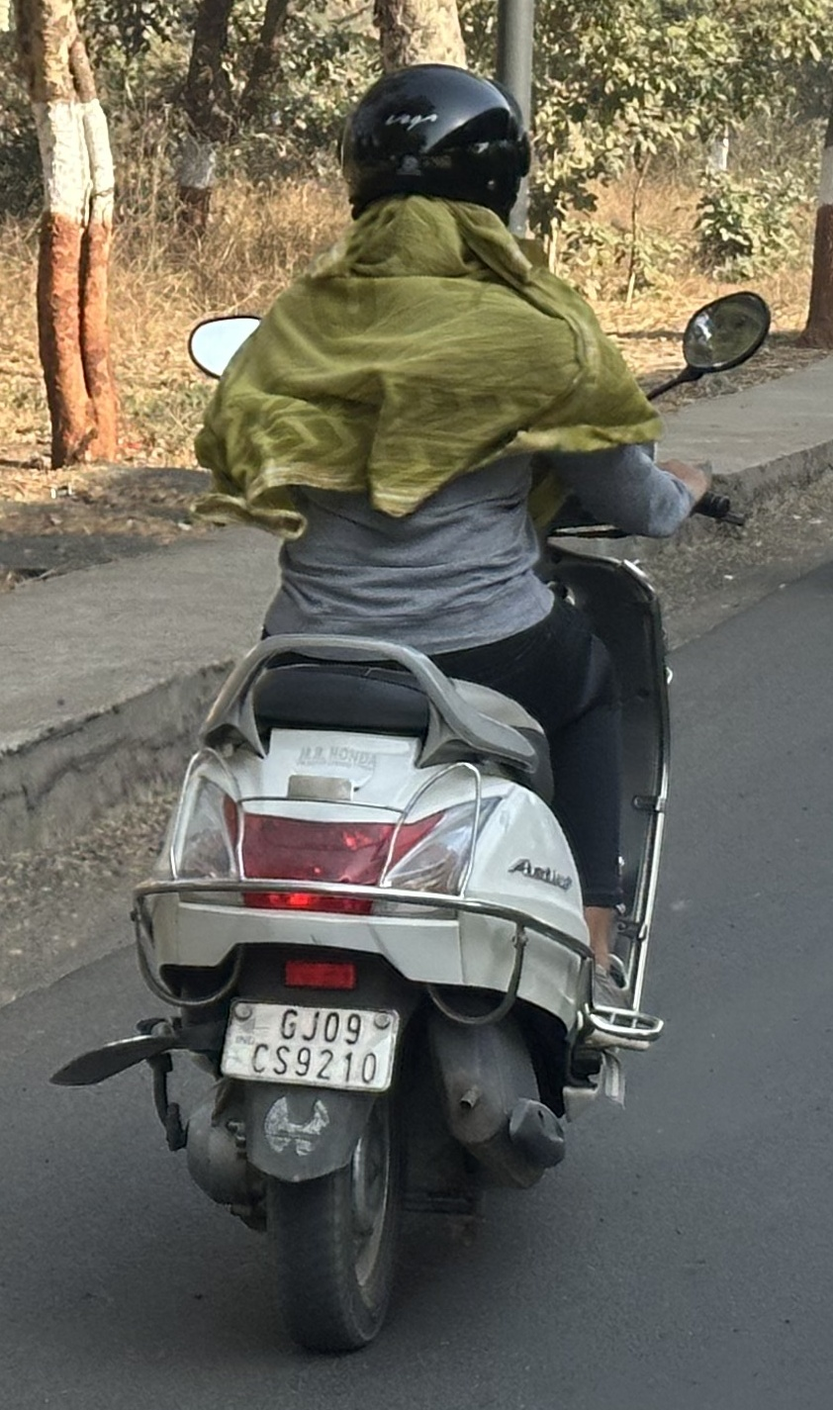BikeWithRider: (36, 47, 784, 1371)
Helmet: (318, 49, 550, 251)
